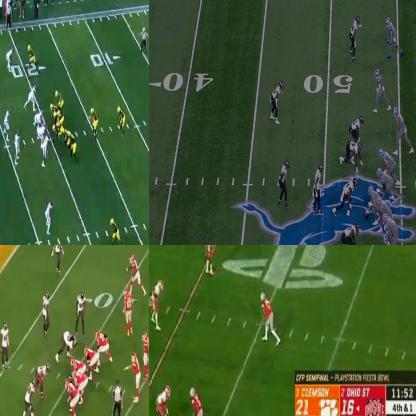CENTER: (364, 184, 382, 218), (52, 124, 68, 141), (71, 358, 85, 374)
DB: (149, 278, 164, 331), (153, 382, 174, 415), (269, 82, 282, 123), (351, 15, 361, 56), (52, 245, 65, 272), (206, 245, 217, 274), (44, 200, 52, 234), (5, 46, 14, 72)
LB: (335, 178, 359, 214), (314, 165, 326, 208), (1, 322, 12, 366), (279, 162, 289, 208), (348, 116, 365, 142), (42, 291, 51, 331), (25, 82, 36, 110), (4, 108, 11, 142), (15, 132, 20, 158)
QB: (129, 353, 141, 400), (89, 107, 100, 138)
SKILL: (259, 291, 280, 346), (395, 104, 411, 152), (373, 70, 389, 113), (189, 386, 209, 415), (128, 257, 144, 293), (122, 288, 134, 332), (387, 16, 399, 56), (109, 216, 125, 244), (141, 331, 148, 377), (117, 106, 126, 132), (28, 43, 36, 68), (54, 88, 62, 106)
